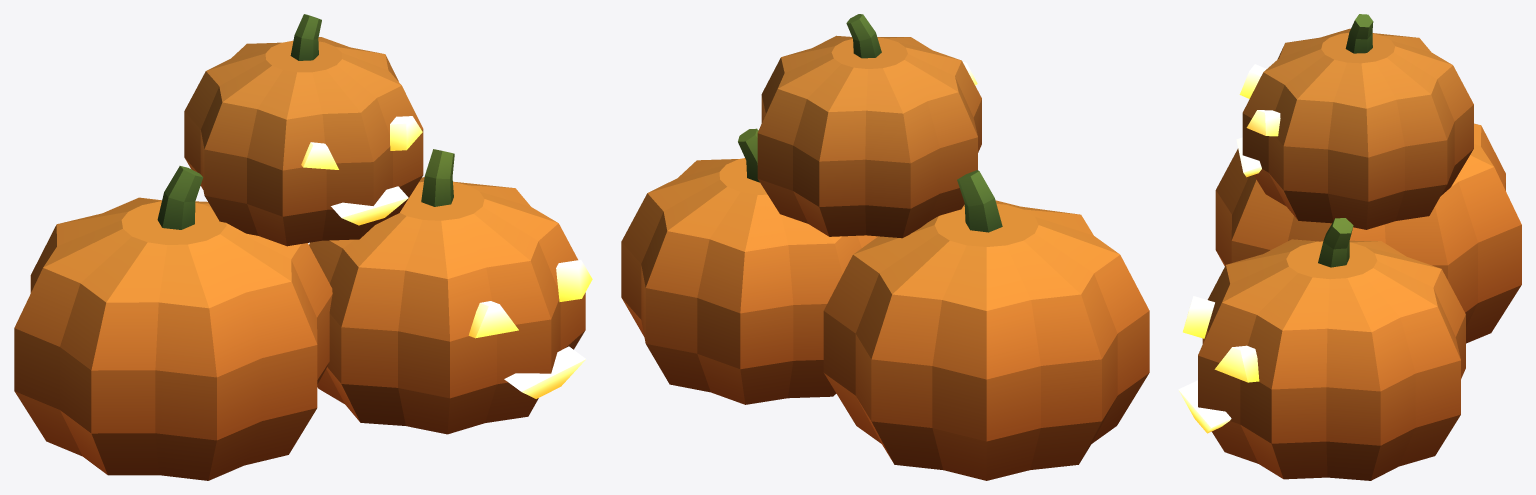
The model's file is PlayGround_Kit_Pumpkin_Stack.fbx.
The picture shows the model from 3 angles, left to right: view 1: azimuth 30°, elevation 25°; view 2: azimuth 150°, elevation 25°; view 3: azimuth 270°, elevation 25°; orthographic projection. The views are drawn at different scales.
Visible parts, largest first — view 1: PlayGround_Kit_Pumpkin_Stack; view 2: PlayGround_Kit_Pumpkin_Stack; view 3: PlayGround_Kit_Pumpkin_Stack.
Part boxes in pixels (left/top/right/bottom): PlayGround_Kit_Pumpkin_Stack: left=14, top=14, right=592, bottom=480; PlayGround_Kit_Pumpkin_Stack: left=621, top=14, right=1149, bottom=480; PlayGround_Kit_Pumpkin_Stack: left=1178, top=14, right=1521, bottom=480.
Size of the model in its own units: 1.05 by 0.8192 by 0.6508.
